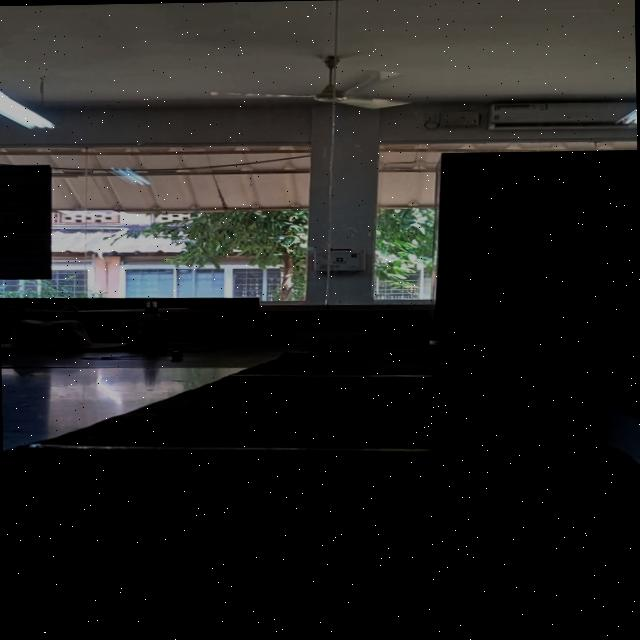Speed40: (502, 288, 572, 329)
